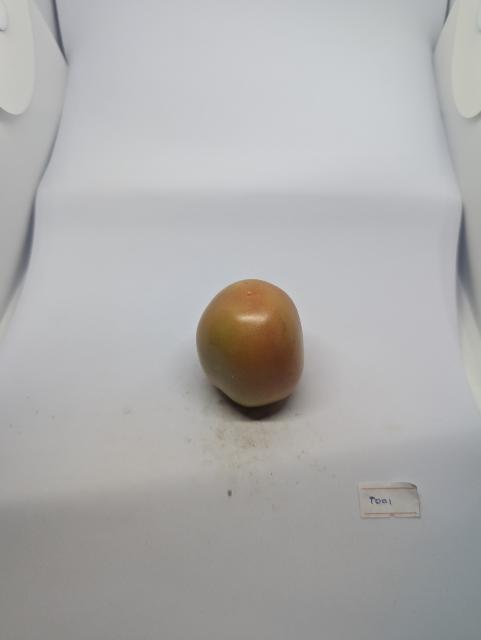turning: (191, 273, 308, 410)
